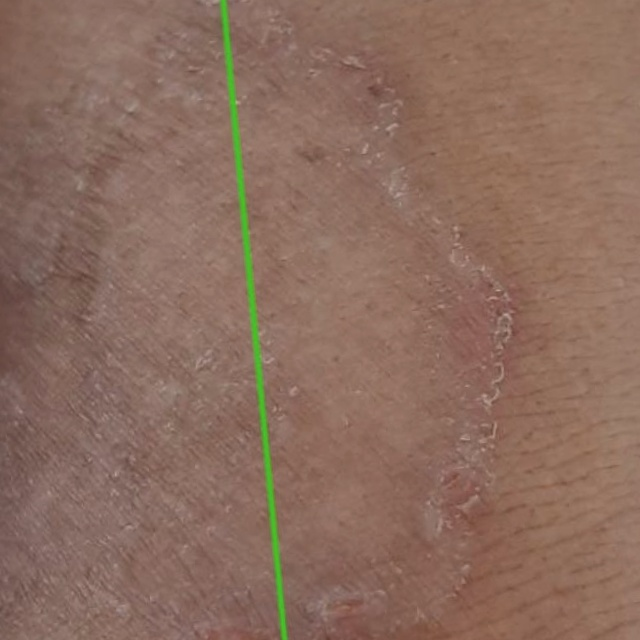Tinea Corporis: (223, 0, 639, 639)
